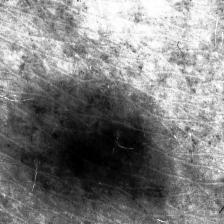Benign Marking or Mole: (65, 128, 148, 181)
